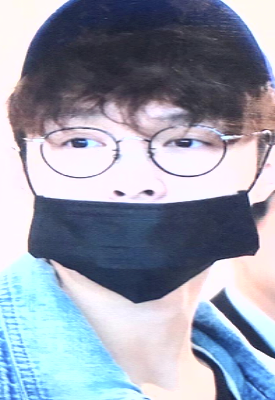mask_weared_incorrect: (25, 107, 262, 304)
